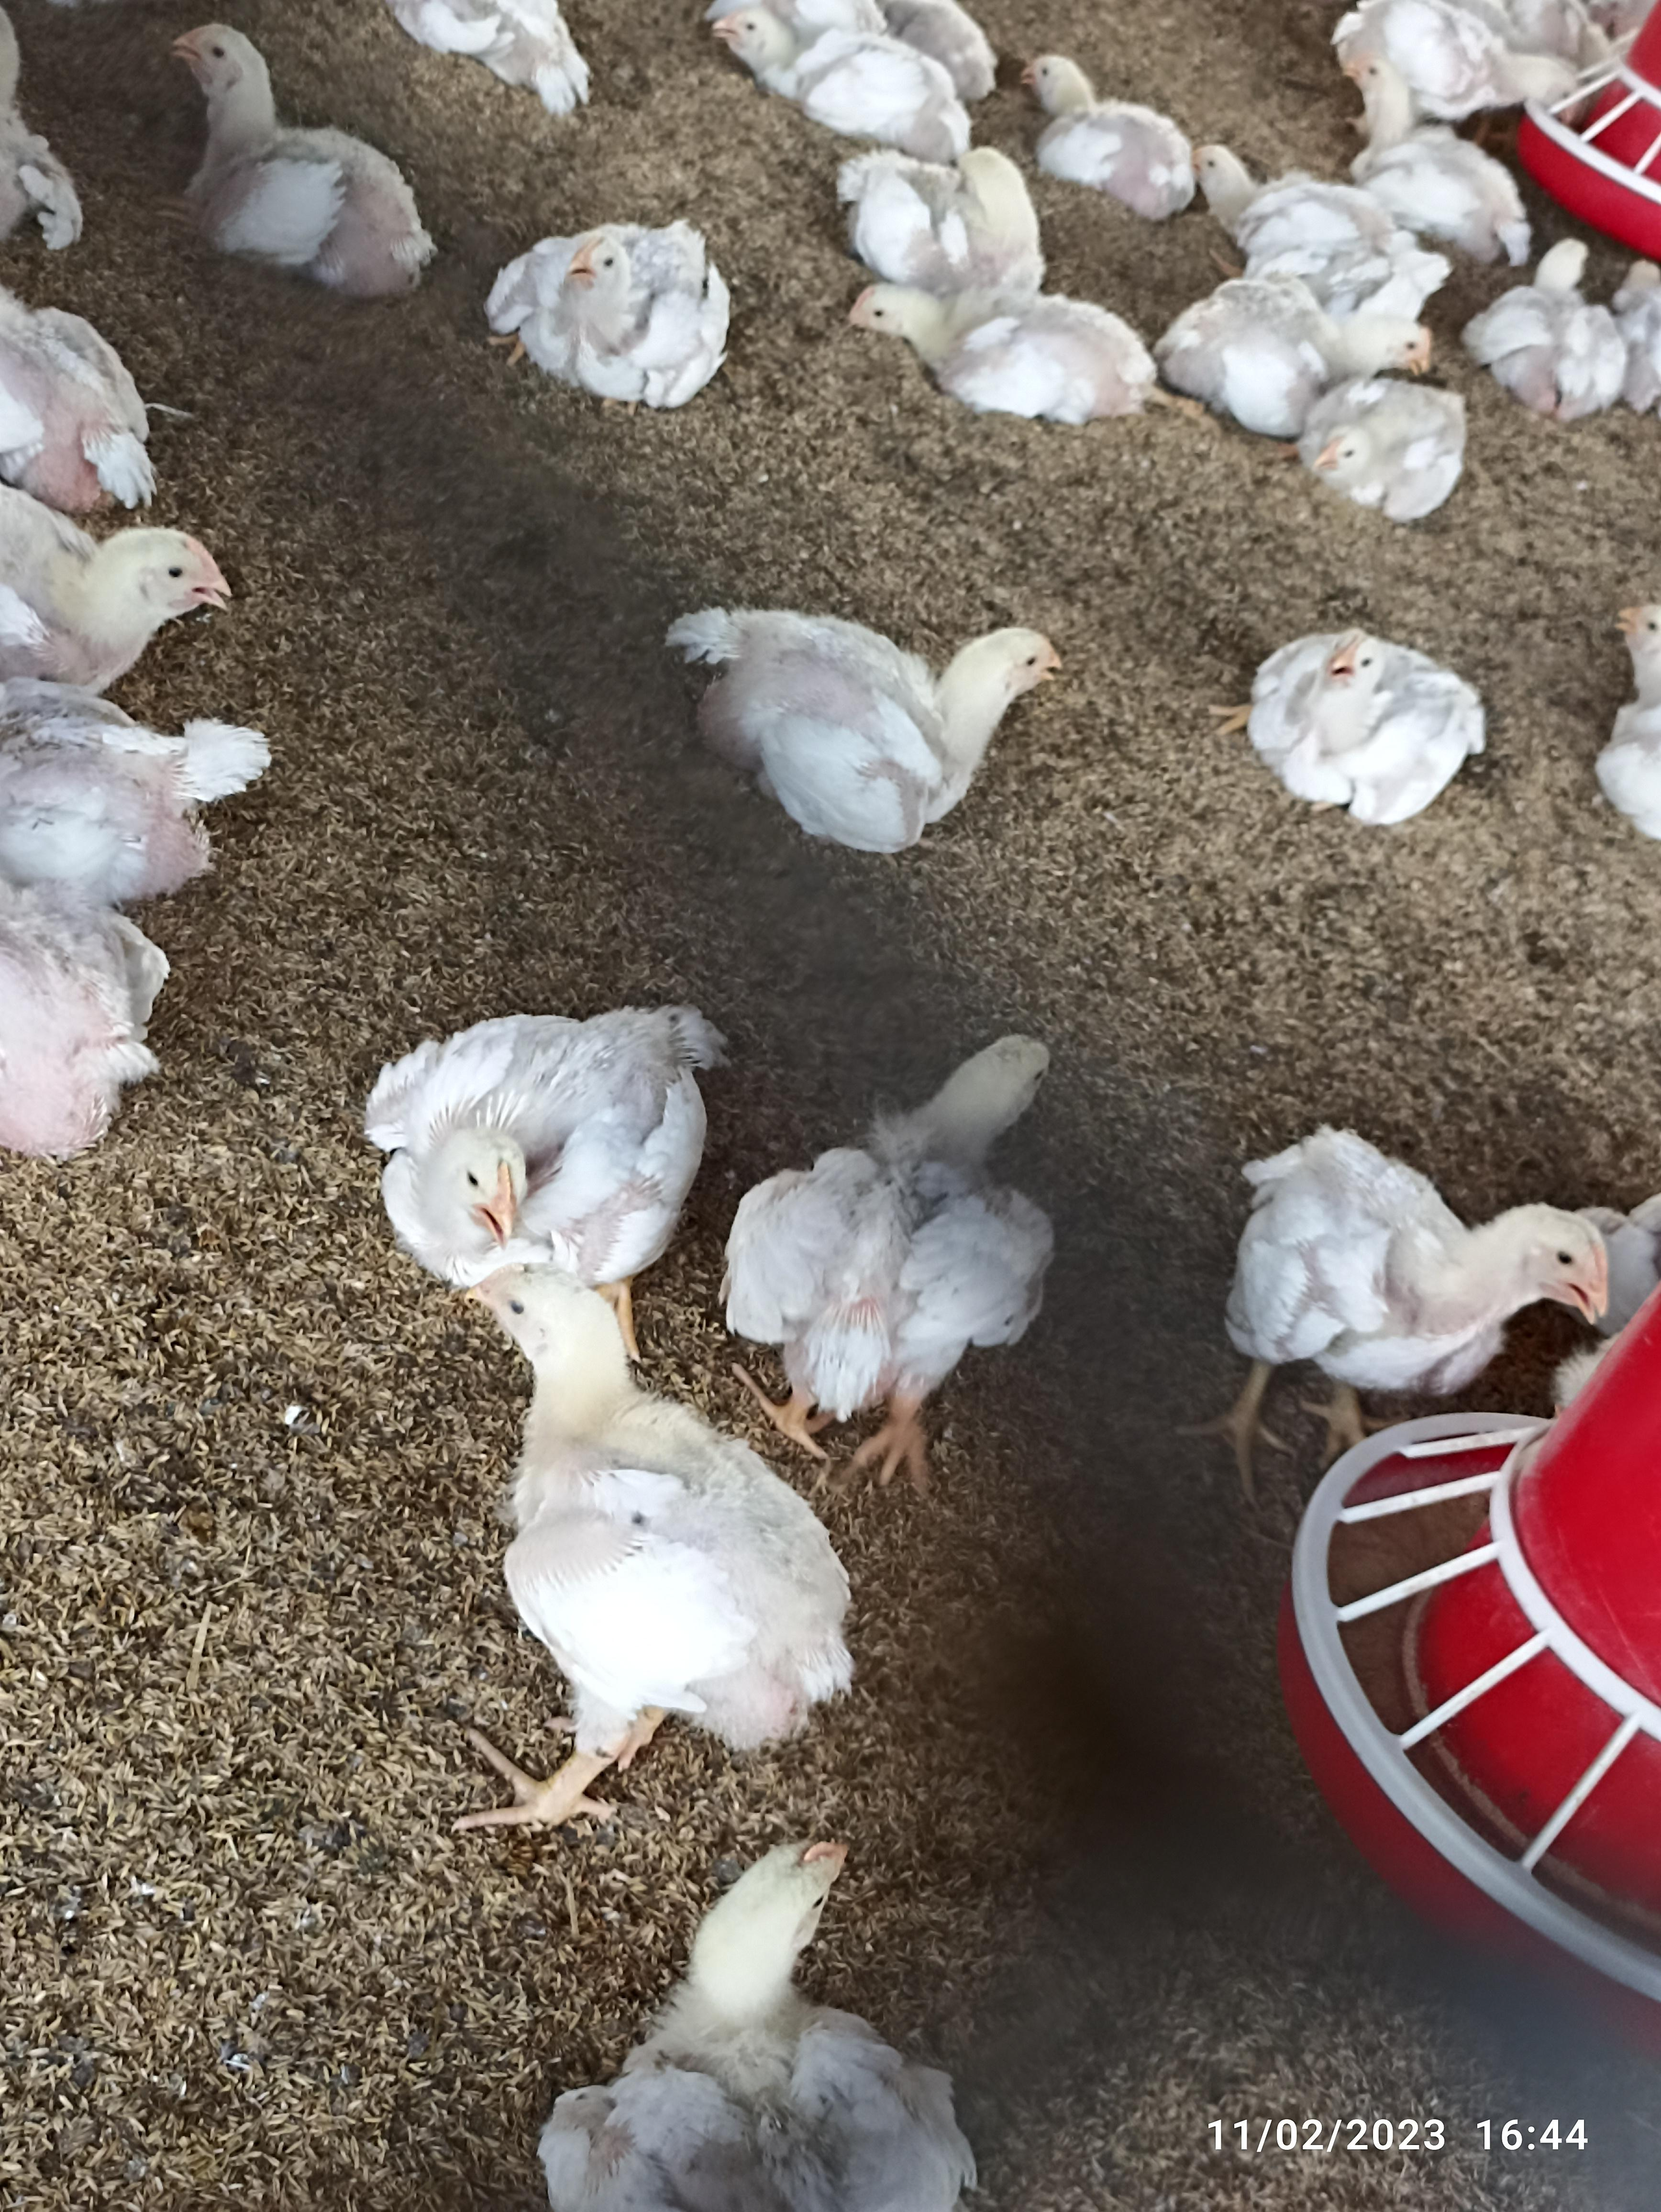Pollos: (468, 1275, 865, 1753), (740, 1026, 1064, 1385), (673, 597, 1082, 850), (1227, 1120, 1603, 1389), (366, 998, 721, 1268), (161, 17, 431, 286), (839, 270, 1155, 427), (1242, 618, 1490, 802), (1335, 37, 1534, 260), (494, 220, 733, 391), (1014, 40, 1199, 209), (1307, 372, 1480, 509)
